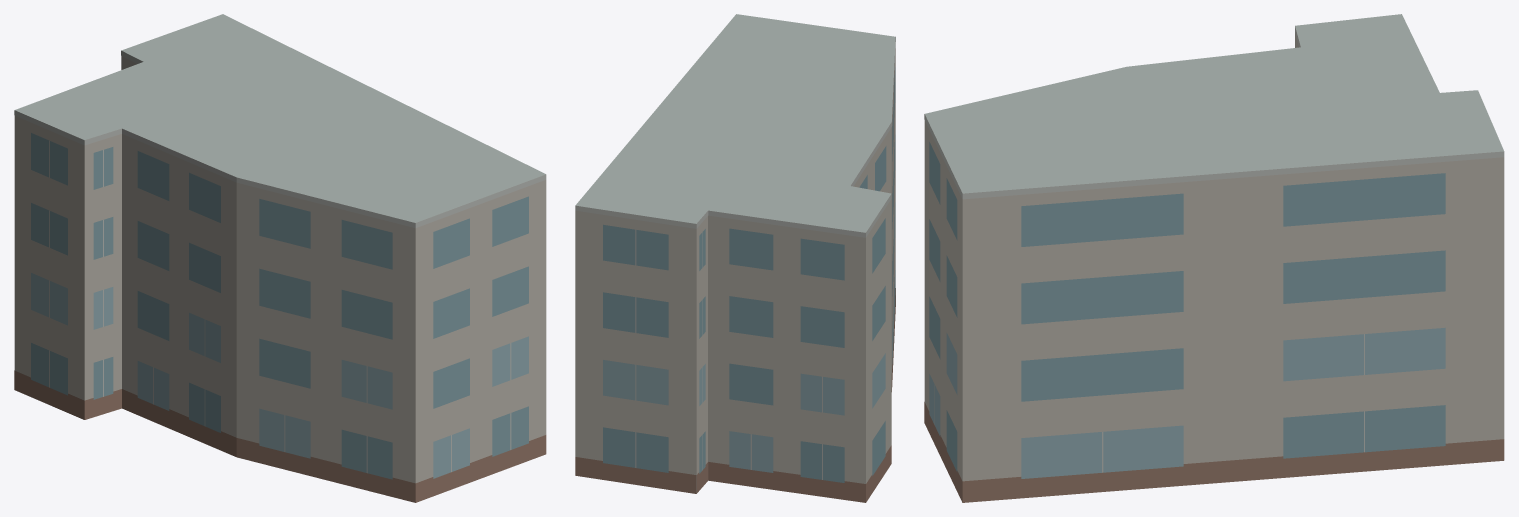
The model's file is survey-upis-32469131.glb.
The picture shows the model from 3 angles, left to right: view 1: azimuth 30°, elevation 25°; view 2: azimuth 150°, elevation 25°; view 3: azimuth 270°, elevation 25°; orthographic projection. The views are drawn at different scales.
Parts seen in each view (by area): view 1: survey-upis-32469131.tmp; view 2: survey-upis-32469131.tmp; view 3: survey-upis-32469131.tmp.
Boxes of the visible parts, left/top/right/bottom form: survey-upis-32469131.tmp: left=14, top=14, right=546, bottom=502; survey-upis-32469131.tmp: left=575, top=14, right=895, bottom=502; survey-upis-32469131.tmp: left=924, top=14, right=1504, bottom=502.
Size of the model in its own units: 16.25 by 13.04 by 22.17.
